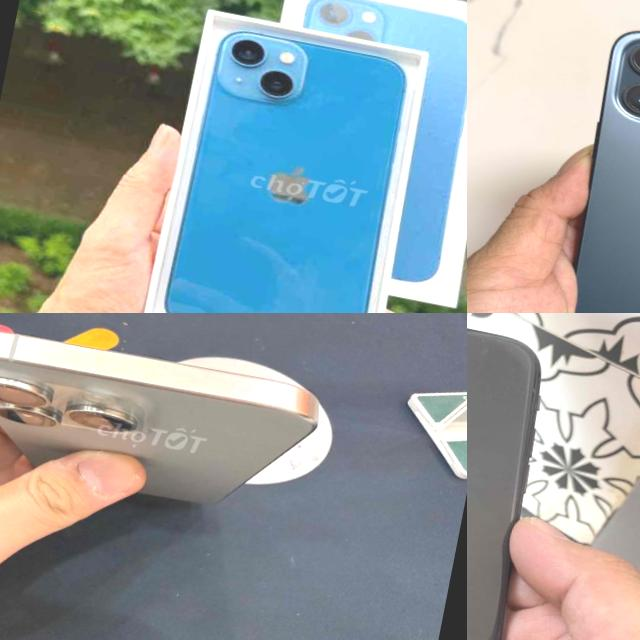scratch: (467, 339, 520, 413), (469, 332, 543, 368), (513, 379, 543, 432), (262, 374, 278, 387)
